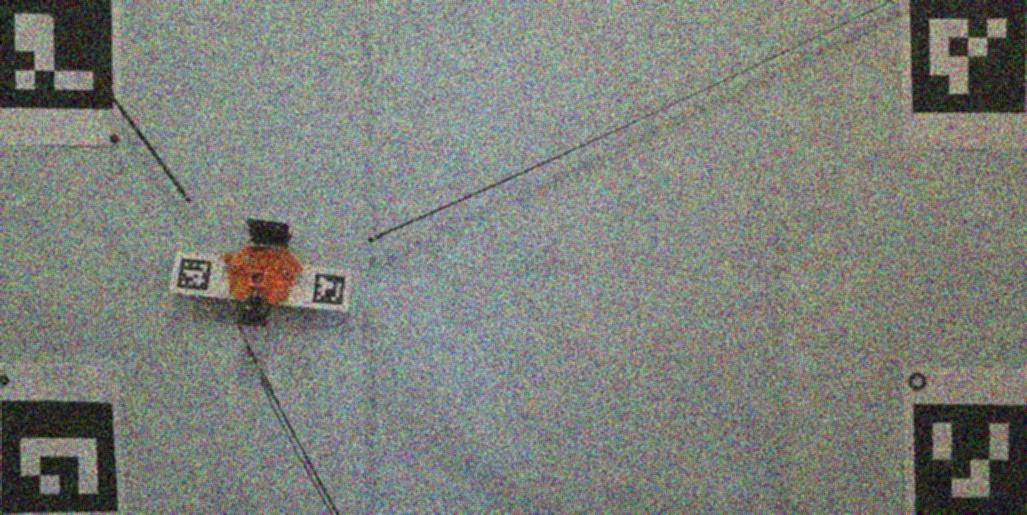robot: (224, 218, 303, 325)
